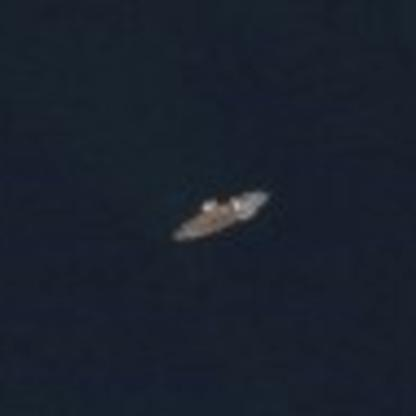ship: (164, 180, 279, 247)
